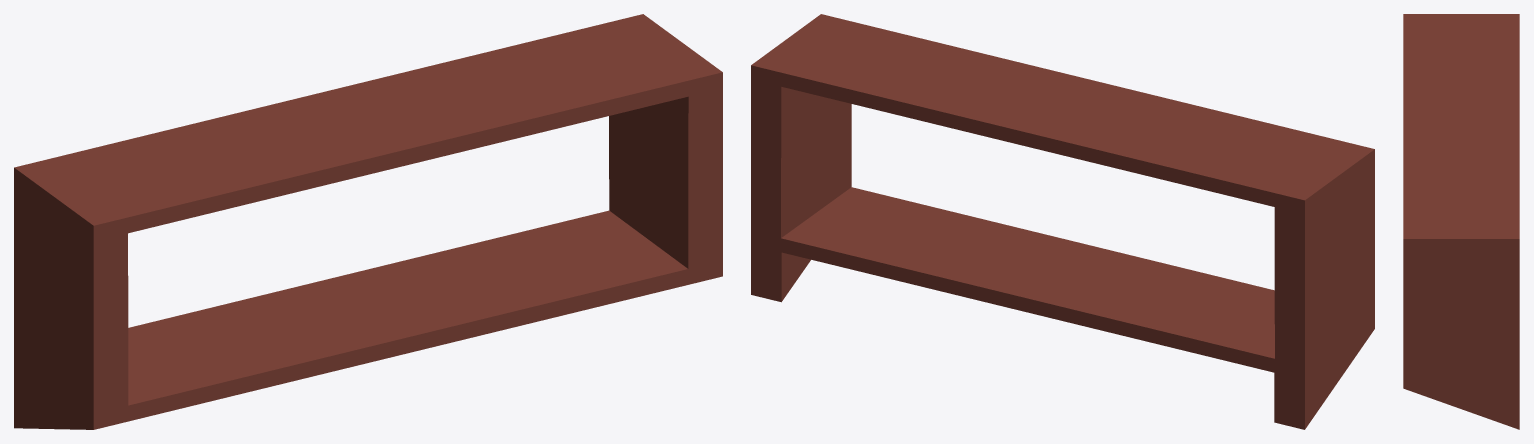
File: Wall Bookshelf Large.fbx
3 renders of one model, left to right at view 1: azimuth 30°, elevation 25°; view 2: azimuth 150°, elevation 25°; view 3: azimuth 270°, elevation 25°, orthographic. The views are drawn at different scales.
Visible parts, largest first — view 1: Wall Bookshelf Large; view 2: Wall Bookshelf Large; view 3: Wall Bookshelf Large.
Part boxes in pixels (bbox=[...]): Wall Bookshelf Large: bbox=[14, 14, 722, 429]; Wall Bookshelf Large: bbox=[751, 14, 1374, 429]; Wall Bookshelf Large: bbox=[1403, 14, 1519, 429].
Bounding box in the file's own units: 1.12 × 0.4451 × 0.2463.
